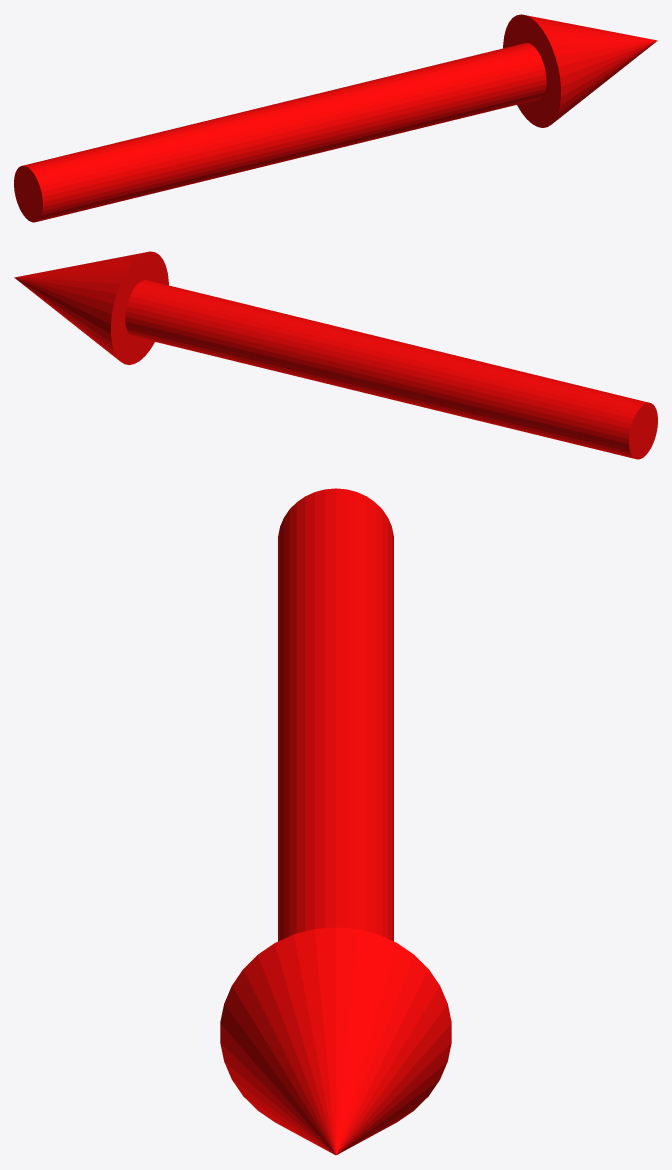
File: vector2.fbx
3 renders of one model, top to bottom at view 1: azimuth 30°, elevation 25°; view 2: azimuth 150°, elevation 25°; view 3: azimuth 270°, elevation 25°, orthographic. The views are drawn at different scales.
Visible parts, largest first — view 1: default; view 2: default; view 3: default.
Part boxes in pixels (box(x1,y1,x2,y2)): default: box(14, 14, 657, 222); default: box(14, 251, 657, 459); default: box(220, 488, 451, 1155).
Bounding box in the file's own units: 0.00125 × 0.0002 × 0.000199.
